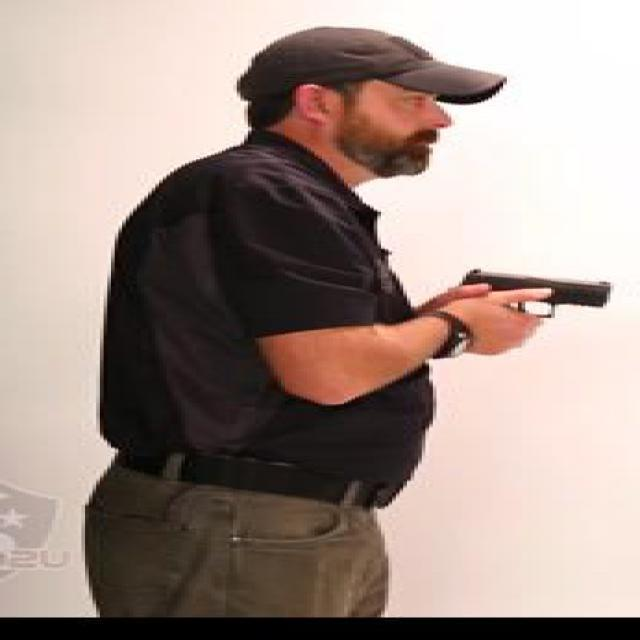Gun: (444, 265, 626, 355)
